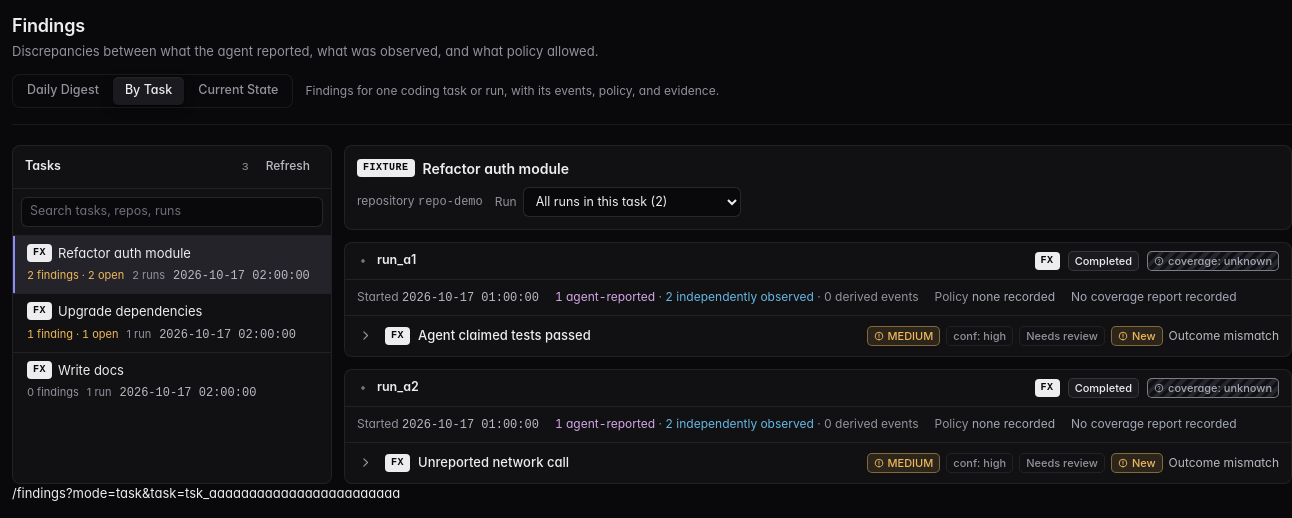
Scenario: verification additions (refresh, context preservation, error states) › By Task refresh failure keeps the previous task list and says why
The image size is (1292, 518).
Step 1. Click the button "Refresh" → (288, 166), box 257,154 -> 319,180
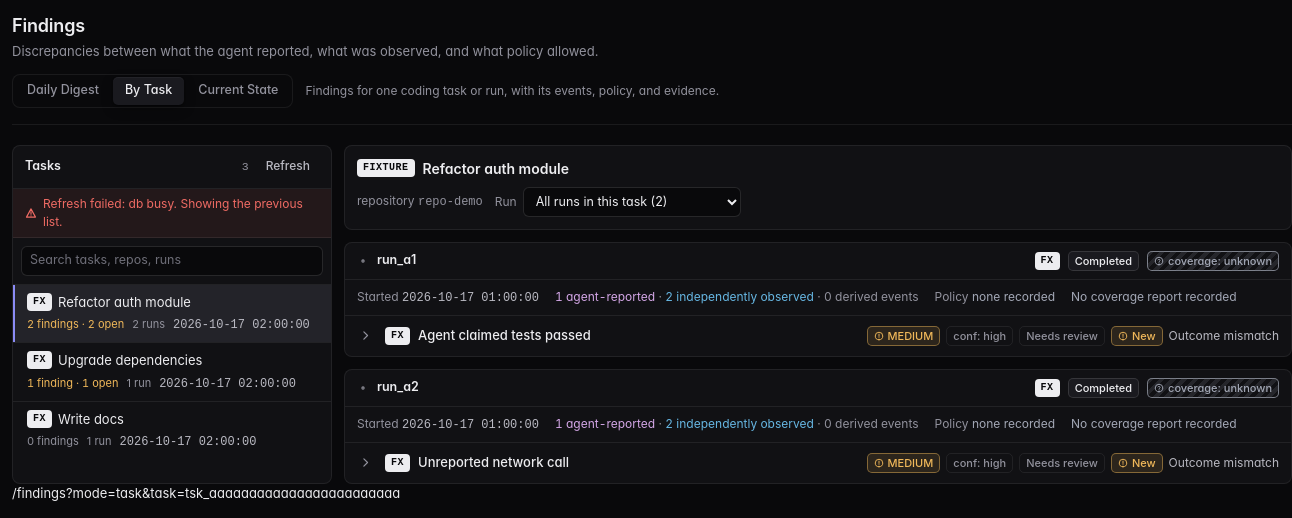
Check: the text "Upgrade dependencies" is shown, box 58,351 -> 202,370
Check: the message reads "Refresh failed: db busy. Showing the previous list.", box 43,196 -> 303,228
